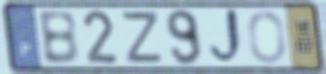2: (81, 8, 121, 66)
9: (163, 7, 204, 68)
B: (35, 8, 81, 67)
J: (207, 6, 247, 68)
O: (247, 9, 289, 66)
Z: (121, 10, 165, 65)
